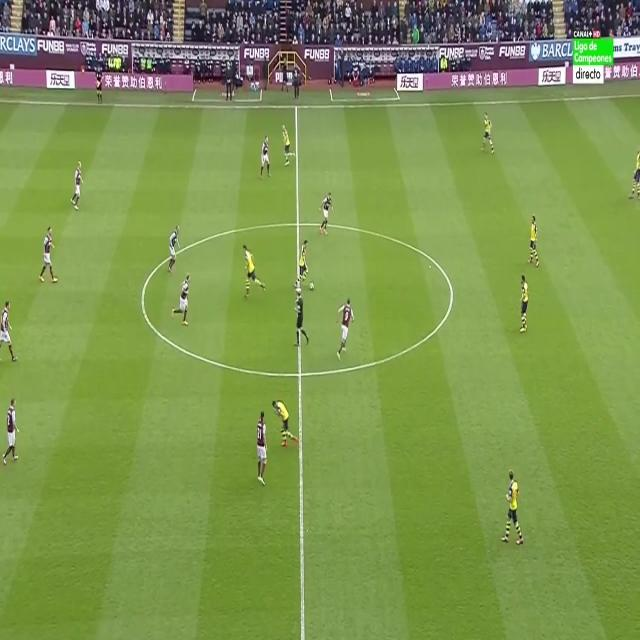Ball: (308, 280, 316, 295)
Player: (500, 468, 525, 555), (241, 243, 267, 302), (334, 298, 356, 364), (1, 396, 20, 469), (0, 299, 20, 368), (272, 399, 298, 450), (38, 225, 59, 287), (170, 271, 192, 330), (255, 410, 269, 491), (291, 238, 310, 287), (70, 160, 86, 216), (316, 190, 334, 238), (527, 213, 541, 272), (166, 222, 182, 273), (281, 121, 297, 168), (479, 110, 495, 156), (519, 272, 530, 338), (627, 155, 640, 204), (260, 133, 271, 183)
Referee: (292, 285, 310, 349), (96, 64, 103, 104)
